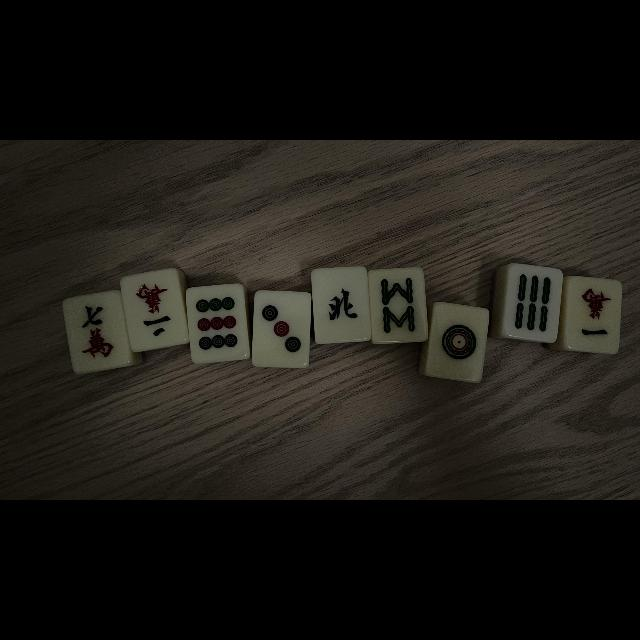b6: (506, 264, 556, 340)
b8: (371, 269, 425, 341)
c1: (565, 278, 619, 352)
c2: (124, 272, 186, 348)
c7: (66, 294, 128, 368)
d1: (431, 304, 483, 380)
d3: (255, 291, 308, 365)
d9: (188, 286, 246, 360)
wn: (314, 269, 370, 341)
